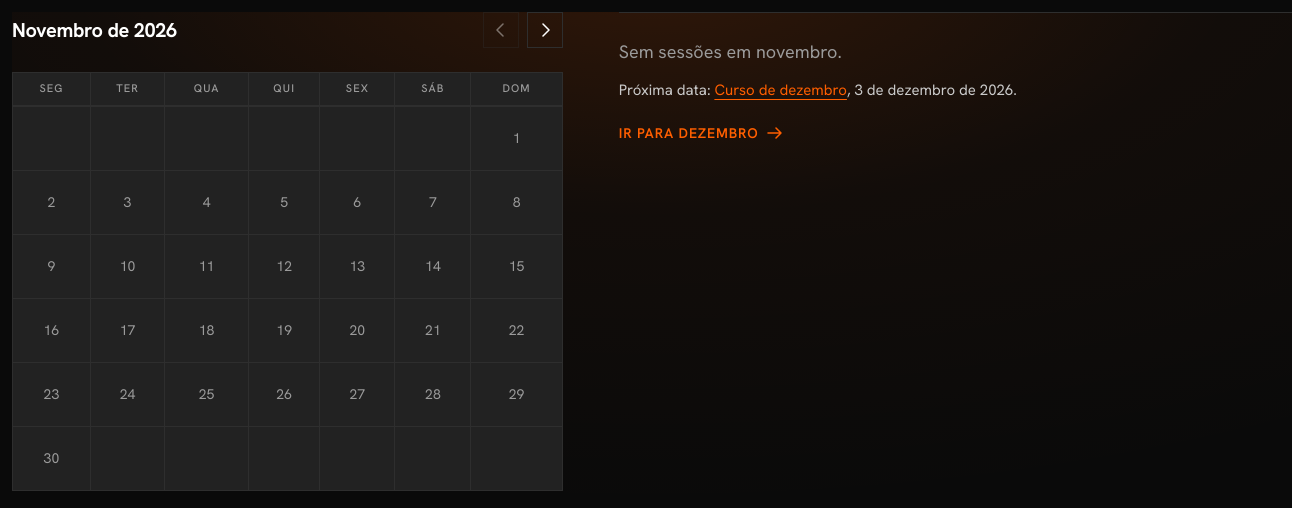
Test: CourseCalendar › offers and performs a jump to the next month with a session
The image size is (1292, 508).
What coordinates should you click on to do the following:
click the button "Ir para Dezembro"
I would click on:
 (701, 133)
Its box is [619,123,783,143].
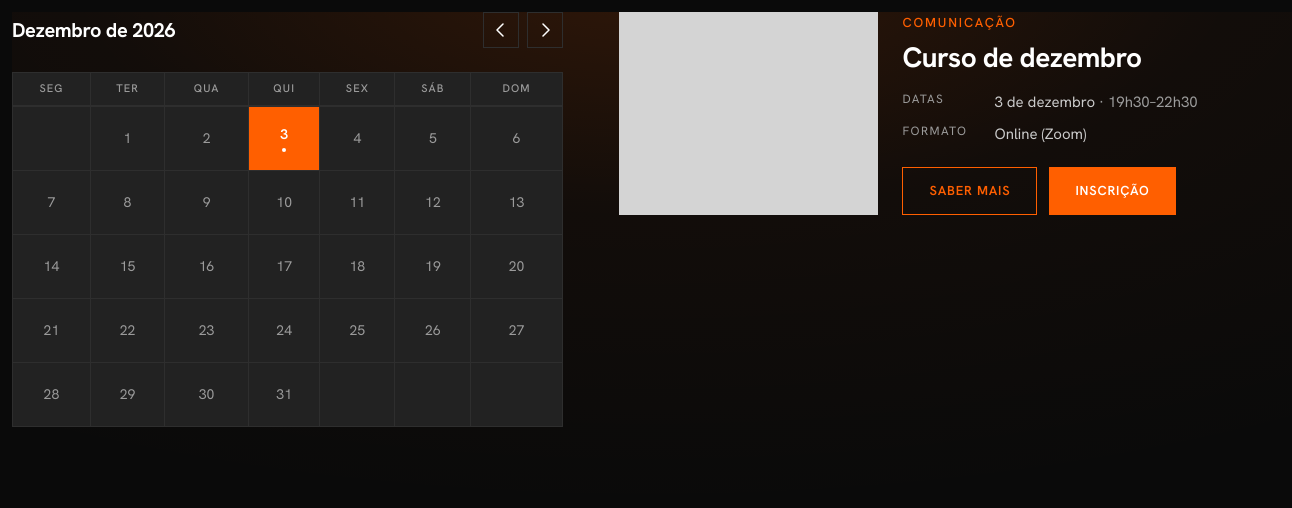
Expected: the link "Curso de dezembro" is shown, [902,39,1142,75]
Expected: the text "Dezembro de 2026" is shown, [12,20,175,40]
